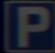Parking: (7, 0, 49, 44)
